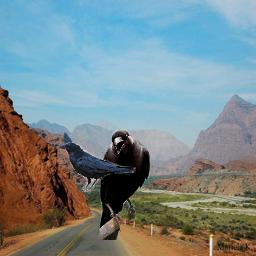Crow: (98, 129, 150, 240), (56, 142, 136, 193)
